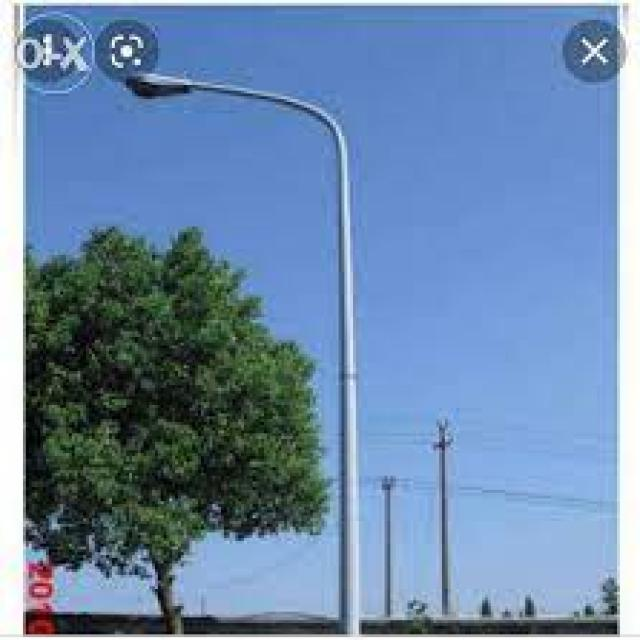Street Light: (120, 65, 362, 640)
